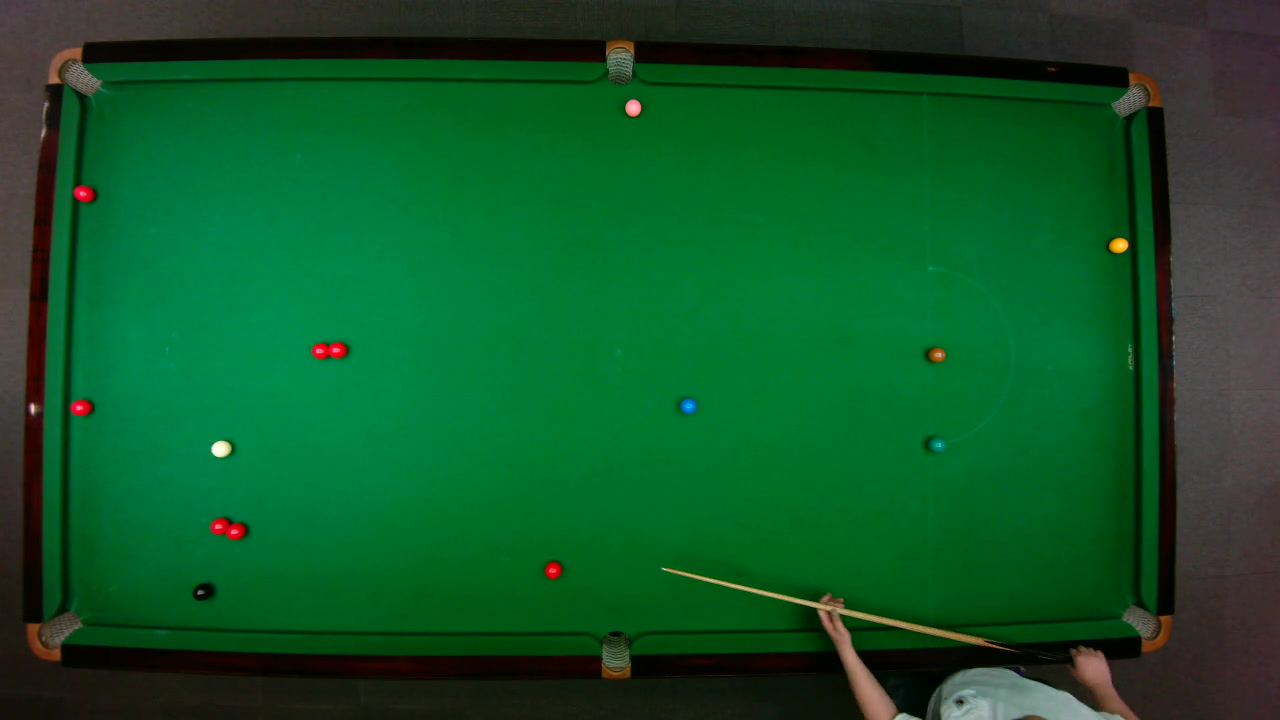bag: (25, 609, 84, 662), (45, 46, 102, 96), (1119, 603, 1172, 651), (1108, 71, 1161, 117), (600, 629, 630, 680), (605, 38, 633, 85)
black: (191, 582, 212, 601)
blue: (678, 396, 696, 414)
brown: (926, 346, 946, 362)
cue: (655, 565, 1072, 668)
green: (926, 435, 946, 452)
pink: (623, 97, 642, 117)
red: (224, 520, 247, 540), (71, 183, 95, 202), (68, 398, 93, 416), (208, 516, 230, 536), (542, 559, 563, 579), (326, 340, 347, 359), (310, 341, 331, 359)
white: (209, 438, 232, 458)
yellow: (1107, 236, 1129, 253)
zone: (926, 265, 1013, 445)
